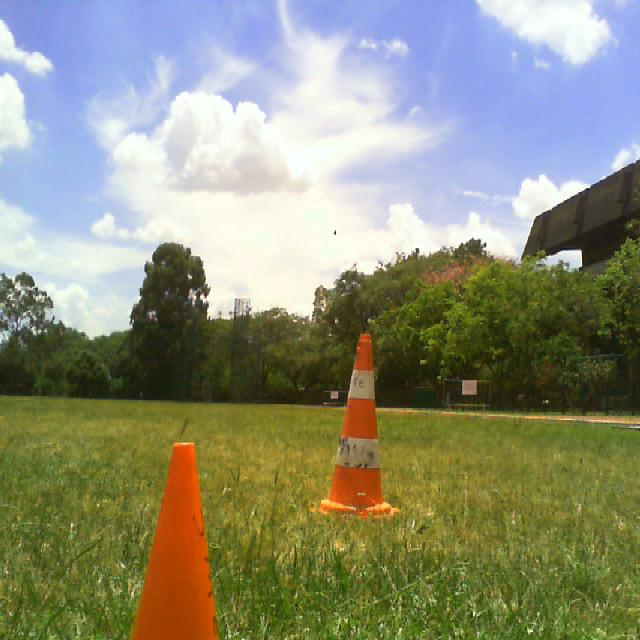cone: (128, 442, 218, 640), (309, 332, 399, 517)
